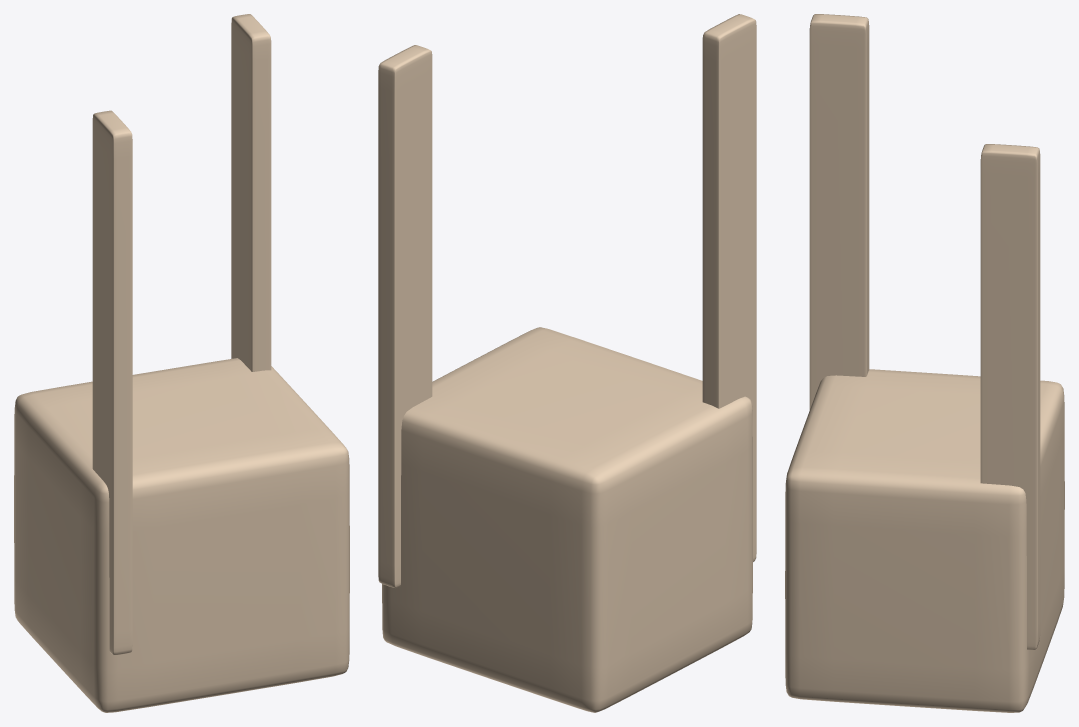
File: PROP_Bench_v1.glb
The picture shows the model from 3 angles, left to right: view 1: azimuth 30°, elevation 25°; view 2: azimuth 150°, elevation 25°; view 3: azimuth 270°, elevation 25°; orthographic projection. The views are drawn at different scales.
Parts seen in each view (by area): view 1: PROP_Bench_v1; view 2: PROP_Bench_v1; view 3: PROP_Bench_v1.
Boxes of the visible parts, box(x1,y1,x2,y2) form: PROP_Bench_v1: box(14, 14, 349, 712); PROP_Bench_v1: box(378, 14, 756, 712); PROP_Bench_v1: box(785, 14, 1064, 712).
Bounding box in the file's own units: 1.18 × 2.53 × 1.1.
